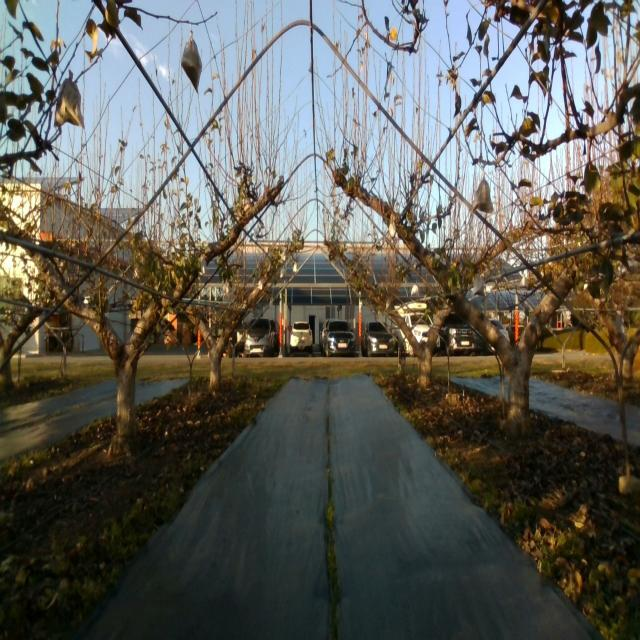pearbags: (53, 79, 85, 129), (181, 39, 202, 94), (474, 181, 494, 213), (473, 274, 486, 299)
